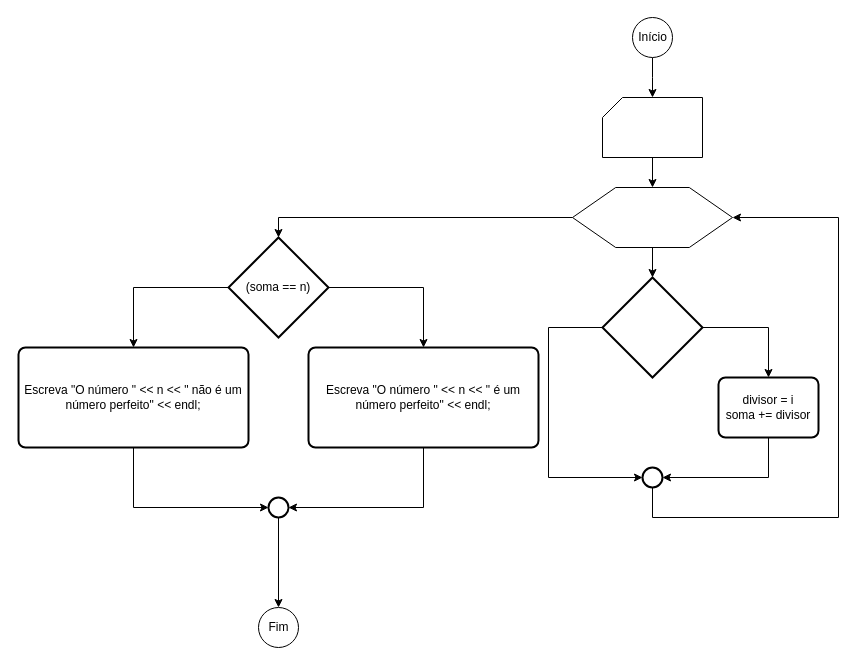
This 864x665 diagram has some shape labels left out. The shapes that lost their labels are listed below. From the top down, each one's box as (x1, y1, x2, y2) in pixels, then its label:
(602, 96, 702, 158): Leia n
(572, 186, 732, 248): Para i = 1 até i < n, faça i++
(601, 276, 703, 378): (n % i == 0)
